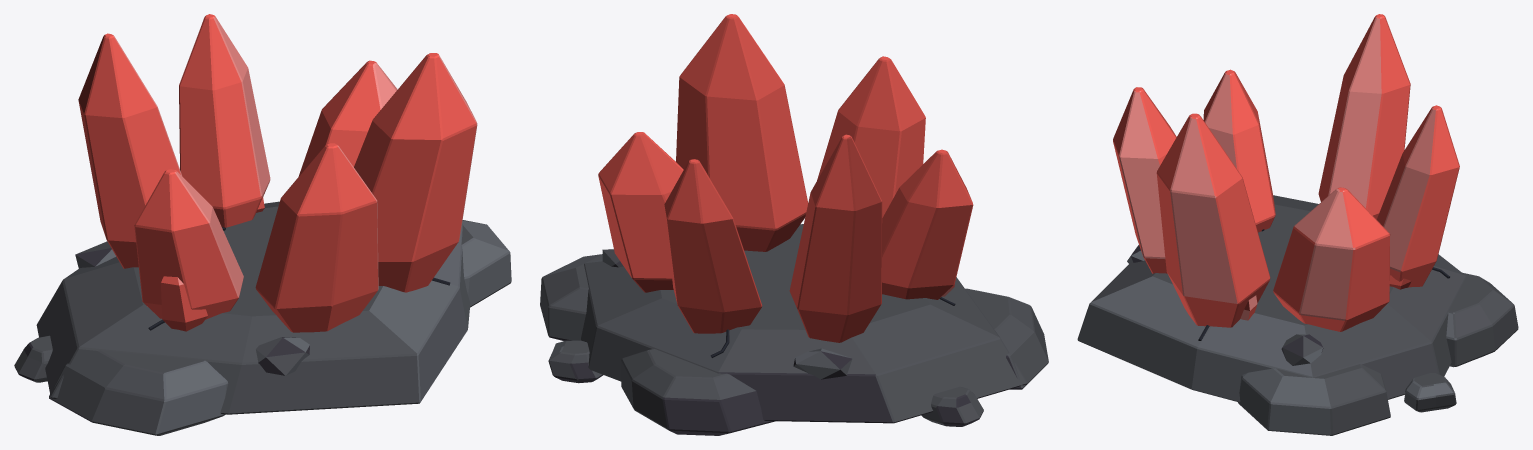
Rendered from BH_ORE_O16_Rubi_de_Magma_V02.glb.
The picture shows the model from 3 angles, left to right: view 1: azimuth 30°, elevation 25°; view 2: azimuth 150°, elevation 25°; view 3: azimuth 270°, elevation 25°; orthographic projection. The views are drawn at different scales.
Parts seen in each view (by area): view 1: Bedrock | primary.003, O16 | shard 3.003, O16 | shard 2.003, O16 | shard 5.003, O16 | shard 6.003, Bedrock | shoulder 1.003, O16 | shard 1.003, O16 | shard 4.003, Bedrock | shoulder 2.003, O16 | V02 secondary crystal 1.001, O16 | V02 embedded stone ledge.005, Loose chip 2.003 (+1 smaller); view 2: Bedrock | primary.003, O16 | shard 3.003, O16 | shard 6.003, O16 | shard 5.003, O16 | shard 1.003, O16 | shard 4.003, Bedrock | shoulder 3.003, O16 | shard 2.003, Bedrock | shoulder 1.003, Bedrock | shoulder 2.003, Loose chip 2.003, Loose chip 1.003 (+1 smaller); view 3: Bedrock | primary.003, O16 | shard 3.003, O16 | shard 4.003, O16 | shard 6.003, O16 | shard 5.003, Bedrock | shoulder 2.003, O16 | shard 2.003, O16 | shard 1.003, Bedrock | shoulder 3.003, Loose chip 1.003, O16 | V02 embedded stone ledge.003.
Part boxes in pixels (x1=…): Bedrock | primary.003: x1=36, y1=201, x2=470, y2=414; O16 | shard 3.003: x1=354, y1=53, x2=477, y2=292; O16 | shard 2.003: x1=255, y1=143, x2=378, y2=332; O16 | shard 5.003: x1=179, y1=14, x2=270, y2=227; O16 | shard 6.003: x1=78, y1=33, x2=181, y2=268; Bedrock | shoulder 1.003: x1=49, y1=350, x2=228, y2=435; O16 | shard 1.003: x1=134, y1=169, x2=243, y2=319; O16 | shard 4.003: x1=298, y1=60, x2=397, y2=176; Bedrock | shoulder 2.003: x1=461, y1=220, x2=511, y2=307; O16 | V02 secondary crystal 1.001: x1=161, y1=276, x2=207, y2=331; O16 | V02 embedded stone ledge.005: x1=256, y1=337, x2=309, y2=375; Loose chip 2.003: x1=14, y1=335, x2=52, y2=382; Bedrock | primary.003: x1=581, y1=224, x2=1027, y2=423; O16 | shard 3.003: x1=676, y1=14, x2=808, y2=251; O16 | shard 6.003: x1=789, y1=134, x2=882, y2=342; O16 | shard 5.003: x1=664, y1=159, x2=762, y2=333; O16 | shard 1.003: x1=882, y1=149, x2=973, y2=299; O16 | shard 4.003: x1=598, y1=132, x2=683, y2=292; Bedrock | shoulder 3.003: x1=621, y1=349, x2=774, y2=435; O16 | shard 2.003: x1=817, y1=56, x2=925, y2=217; Bedrock | shoulder 1.003: x1=965, y1=288, x2=1048, y2=389; Bedrock | shoulder 2.003: x1=540, y1=254, x2=602, y2=340; Loose chip 2.003: x1=921, y1=386, x2=983, y2=426; Loose chip 1.003: x1=548, y1=340, x2=603, y2=383; Bedrock | primary.003: x1=1077, y1=195, x2=1466, y2=402; O16 | shard 3.003: x1=1156, y1=113, x2=1270, y2=327; O16 | shard 4.003: x1=1273, y1=187, x2=1390, y2=331; O16 | shard 6.003: x1=1318, y1=14, x2=1410, y2=219; O16 | shard 5.003: x1=1376, y1=105, x2=1459, y2=287; Bedrock | shoulder 2.003: x1=1238, y1=364, x2=1390, y2=435; O16 | shard 2.003: x1=1113, y1=87, x2=1176, y2=273; O16 | shard 1.003: x1=1203, y1=69, x2=1275, y2=232; Bedrock | shoulder 3.003: x1=1446, y1=272, x2=1518, y2=367; Loose chip 1.003: x1=1404, y1=373, x2=1456, y2=412; O16 | V02 embedded stone ledge.003: x1=1281, y1=334, x2=1323, y2=365.
Size of the model in its own units: 3.03 by 1.84 by 2.64.
